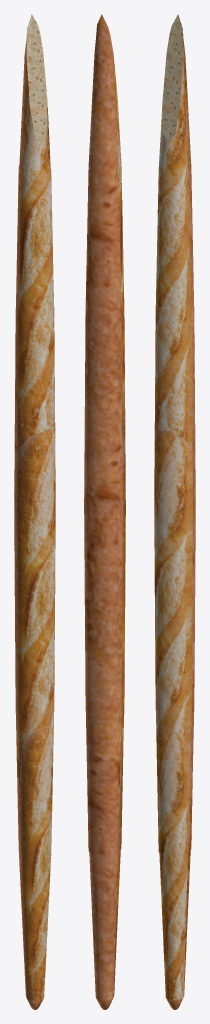
File: Buket.fbx
3 views of the same model, side by side, from view 1: azimuth 30°, elevation 25°; view 2: azimuth 150°, elevation 25°; view 3: azimuth 330°, elevation 25° (orthographic).
Parts seen in each view (by area): view 1: Buket; view 2: Buket; view 3: Buket.
Boxes of the visible parts, x1,y1,x2,y2 form: Buket: (14,14,55,1009); Buket: (84,14,125,1009); Buket: (154,14,195,1009).
Size of the model in its own units: 6.33 by 168 by 6.33.
1 material, 1 textured.
